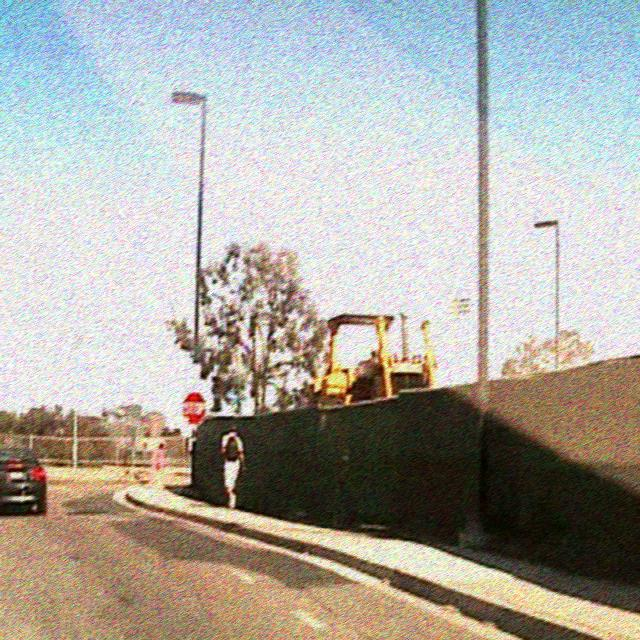stop_sign: (182, 390, 205, 422)
